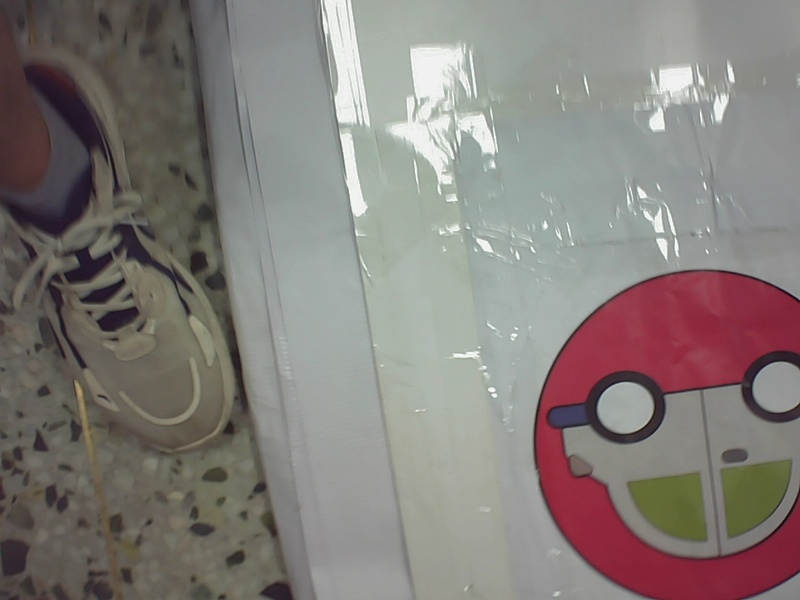areaC: (503, 263, 799, 596)
